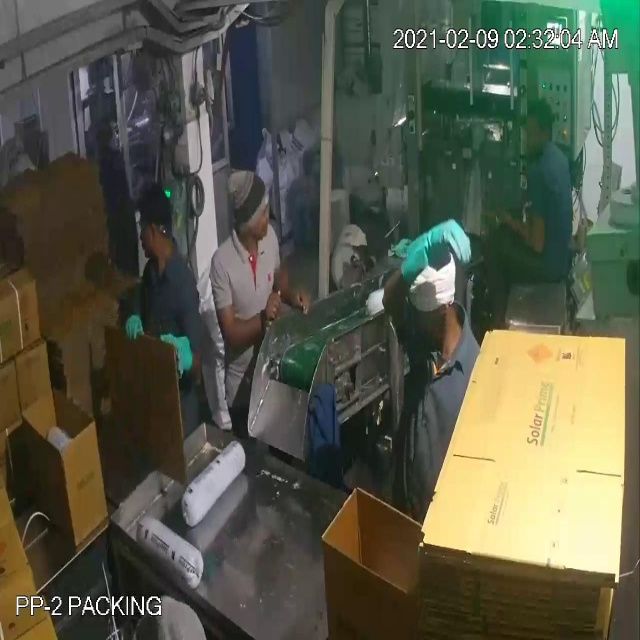Guantes: (397, 204, 477, 301), (156, 322, 196, 391), (120, 300, 150, 352)
Sin_guantes: (205, 289, 287, 358), (484, 193, 553, 267), (268, 252, 316, 324)
